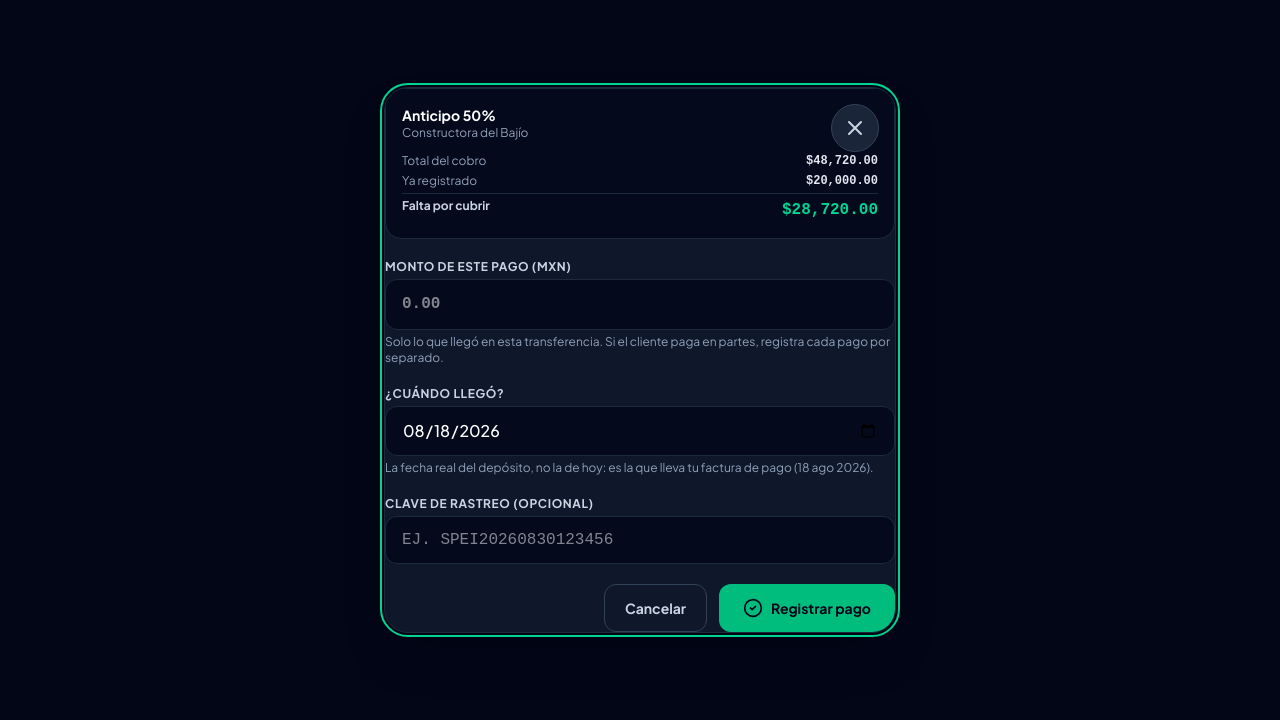
nothing is recorded that the server did not take › stays open with the reason when the write is refused
Type "5000" into the field labelled "Monto de este pago (MXN)" at (640, 304), box 385,279 -> 895,330
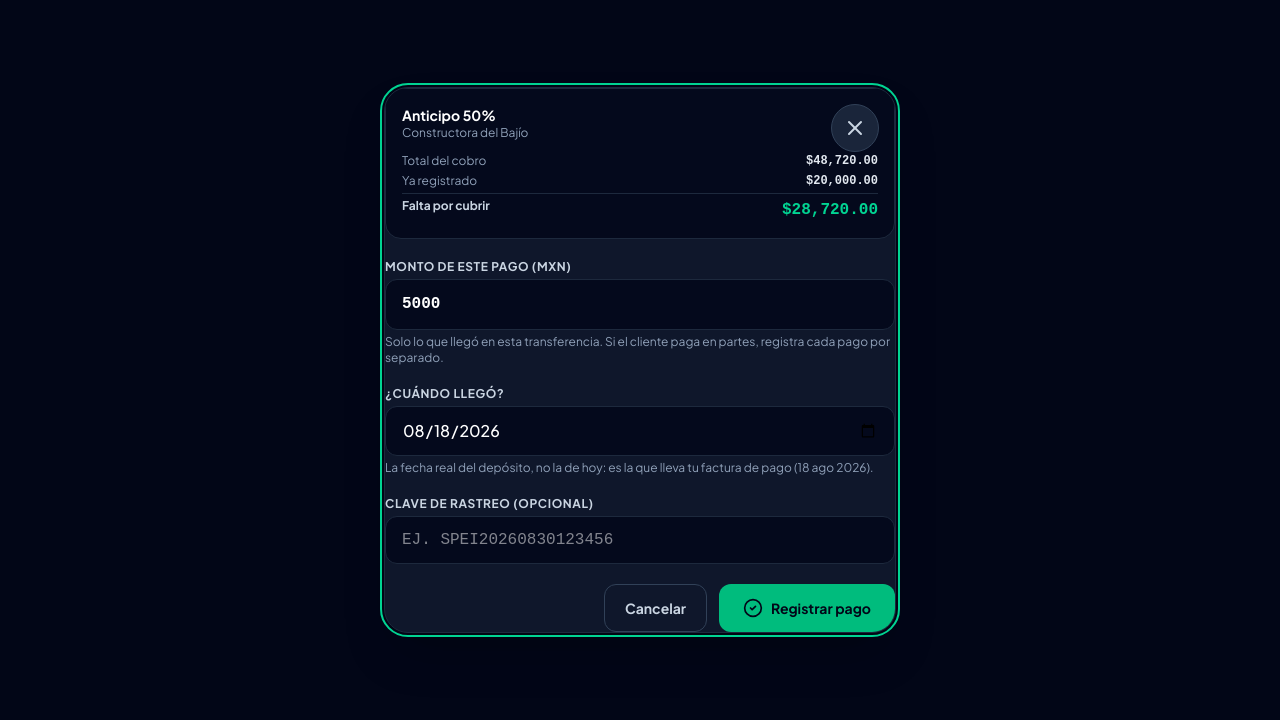
Click the button "Registrar pago" at (807, 608), box 719,584 -> 895,632
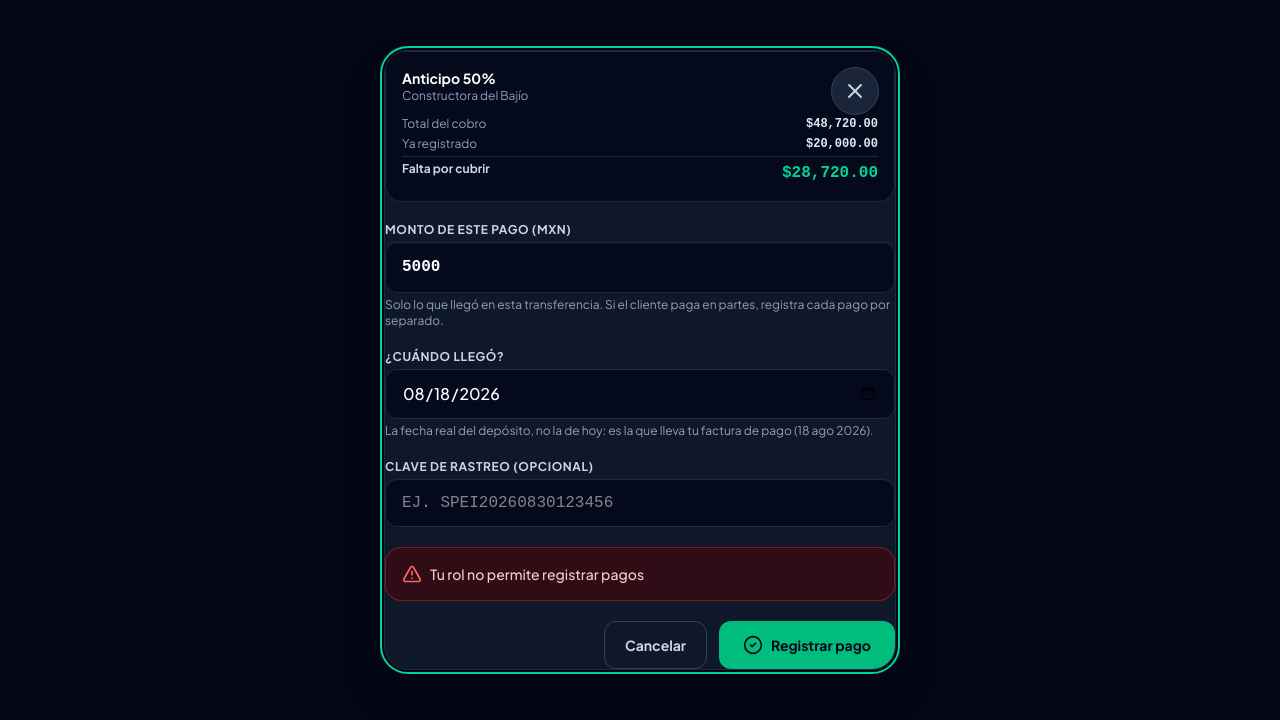
Check: the message reads "Tu rol no permite registrar pagos", box 430,565 -> 644,583
